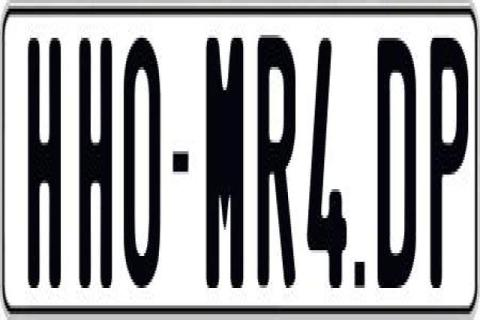0: (308, 35, 354, 303), (123, 29, 166, 294)
D: (374, 38, 414, 288)
H: (27, 32, 62, 291), (76, 35, 111, 285)
M: (204, 38, 244, 288)
P: (428, 35, 460, 291)
R: (254, 32, 294, 294)
